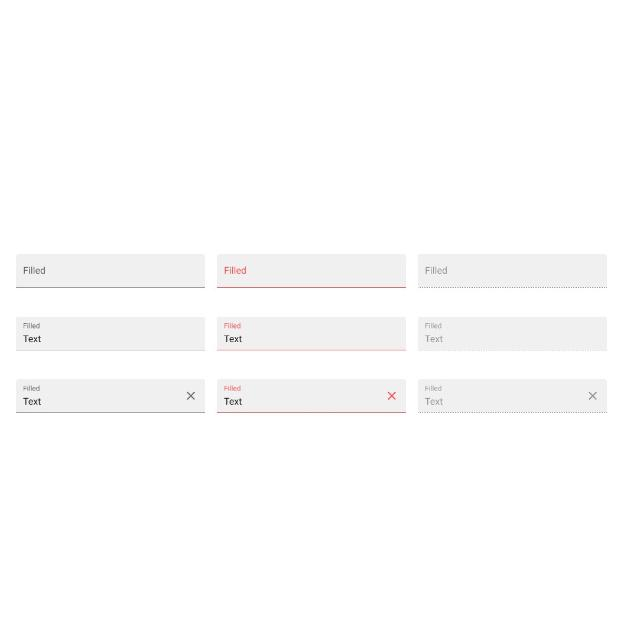VTextField: (216, 252, 407, 290), (14, 316, 206, 352), (216, 316, 407, 352), (417, 316, 608, 352), (417, 379, 608, 415), (15, 253, 205, 289), (417, 253, 607, 289), (216, 378, 406, 414), (15, 380, 207, 414)
